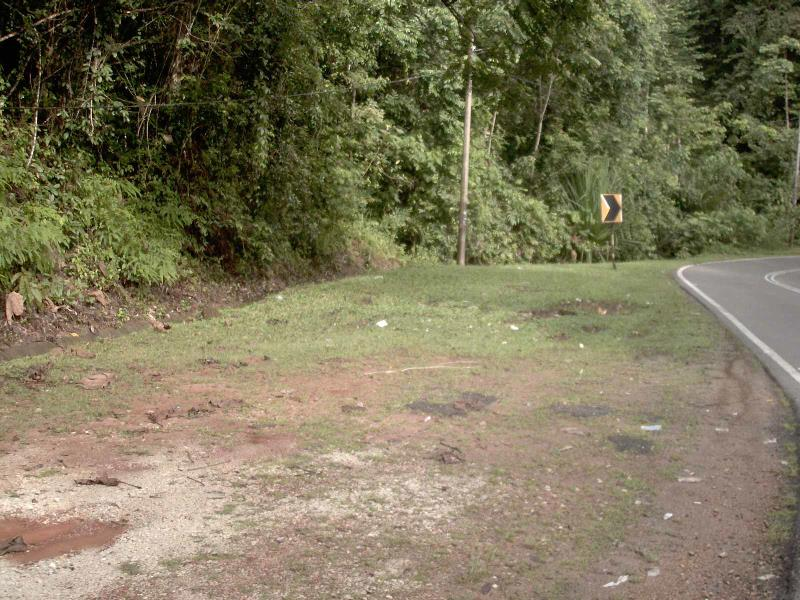traffic_sign: (592, 183, 630, 231)
